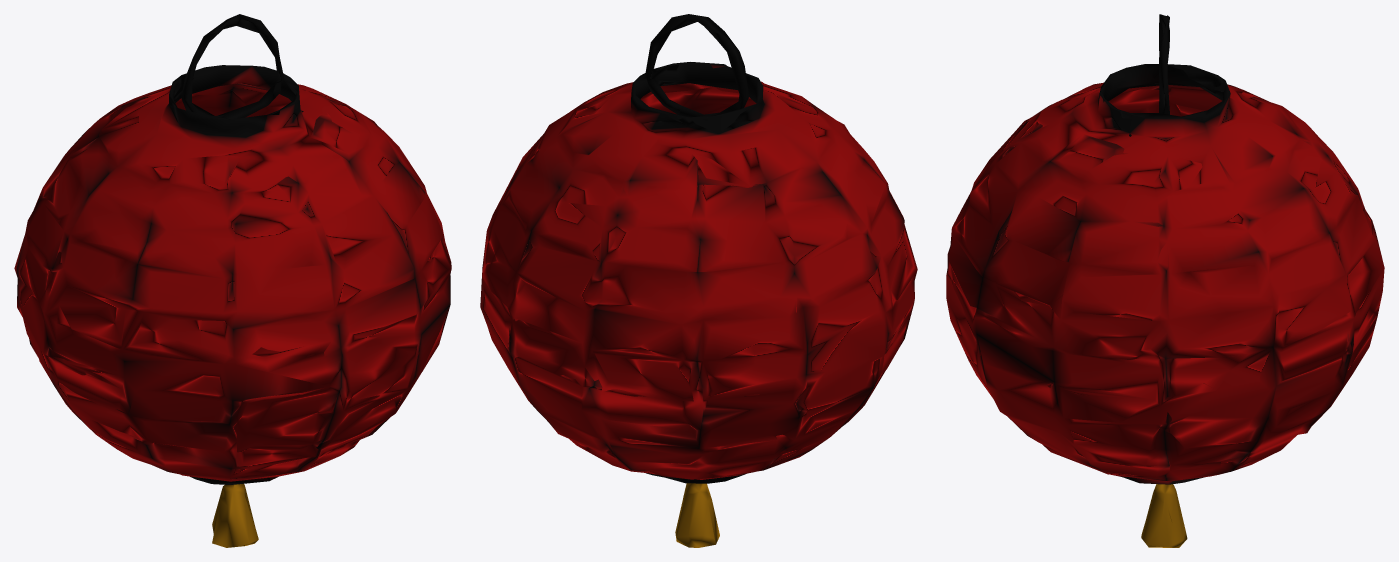
File: gen3d-paper-lantern-lod0.glb
The picture shows the model from 3 angles, left to right: view 1: azimuth 30°, elevation 25°; view 2: azimuth 150°, elevation 25°; view 3: azimuth 270°, elevation 25°; orthographic projection.
Visible parts, largest first — view 1: part_0; view 2: part_0; view 3: part_0.
Boxes of the visible parts, left/top/right/bottom form: part_0: left=14, top=14, right=451, bottom=547; part_0: left=480, top=14, right=917, bottom=547; part_0: left=946, top=14, right=1384, bottom=547.
Bounding box in the file's own units: 0.7513 × 0.9963 × 0.7528.
